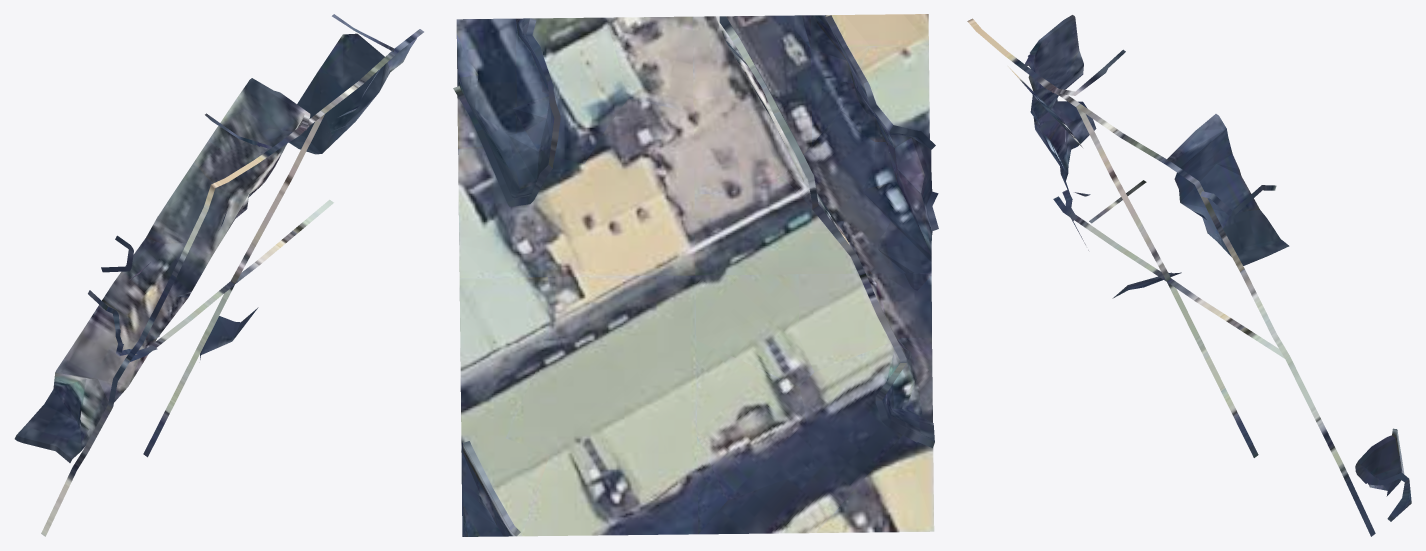
3 views of the same model, side by side, from view 1: azimuth 30°, elevation 25°; view 2: azimuth 150°, elevation 25°; view 3: azimuth 270°, elevation 25° (orthographic). The views are drawn at different scales.
Bounding box in the file's own units: 39.47 × 37.03 × 34.85.
1 material, 1 textured.
